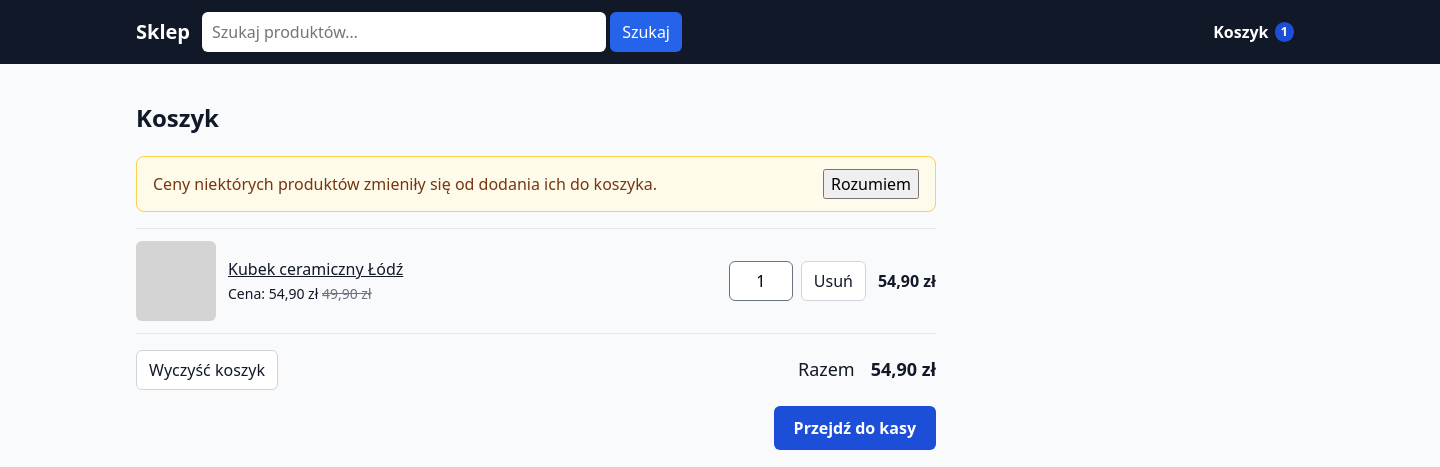
Test case: cart page › shows a changed price with the previous one struck through until the customer accepts it
Check: the text "49,90 zł" is shown, box [322,284,372,303]
Check: the text "Cena: 54,90 zł 49,90 zł" is shown, box [228,284,435,303]
What coordinates should you click on to do the following:
click the button "Rozumiem"
I would click on:
 (871, 184)
Its box is [823,169,919,199].
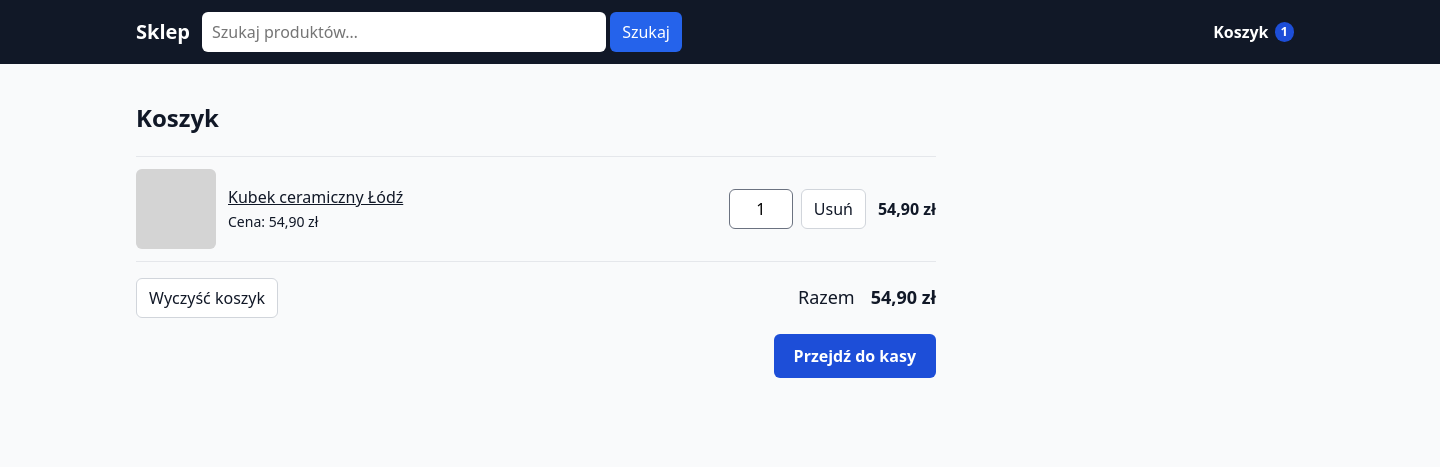
Check: the text "Ceny niektórych produktów zmieniły się od dodania ich do koszyka." is gone
Check: the text "49,90 zł" is gone
